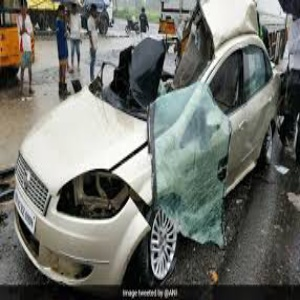bumper: (82, 217, 151, 283)
head_lights: (57, 169, 129, 223)
